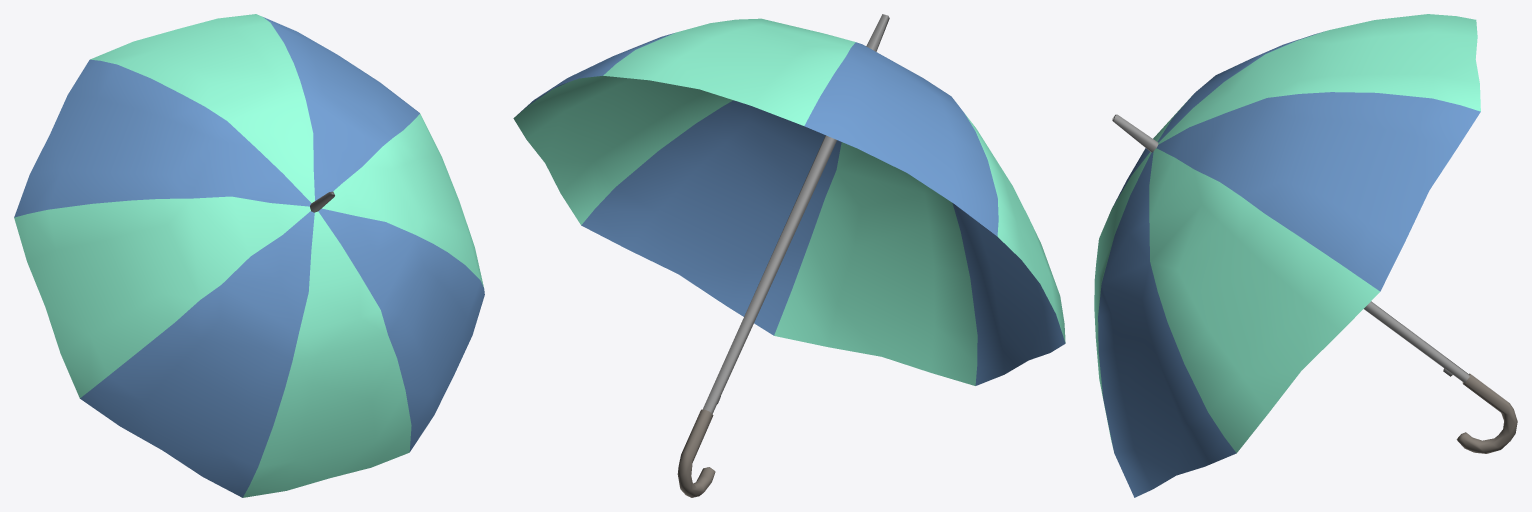
File: umbrella.gltf
The picture shows the model from 3 angles, left to right: view 1: azimuth 30°, elevation 25°; view 2: azimuth 150°, elevation 25°; view 3: azimuth 270°, elevation 25°; orthographic projection. The views are drawn at different scales.
Parts seen in each view (by area): view 1: body2, body1; view 2: body1, body2, 平面002_3, 平面002_4; view 3: body2, body1, 平面002_3, 平面002_4.
Part boxes in pixels (x1,y1,x2,y2): body2: (14, 17, 484, 497); body1: (14, 14, 483, 497); body1: (513, 18, 1065, 385); body2: (517, 33, 1065, 385); 平面002_3: (702, 14, 889, 413); 平面002_4: (677, 409, 715, 497); body2: (1098, 31, 1480, 497); body1: (1094, 14, 1480, 452); 平面002_3: (1112, 114, 1469, 382); 平面002_4: (1456, 373, 1517, 453).
Size of the model in its own units: 6.28 by 4.94 by 4.74.
